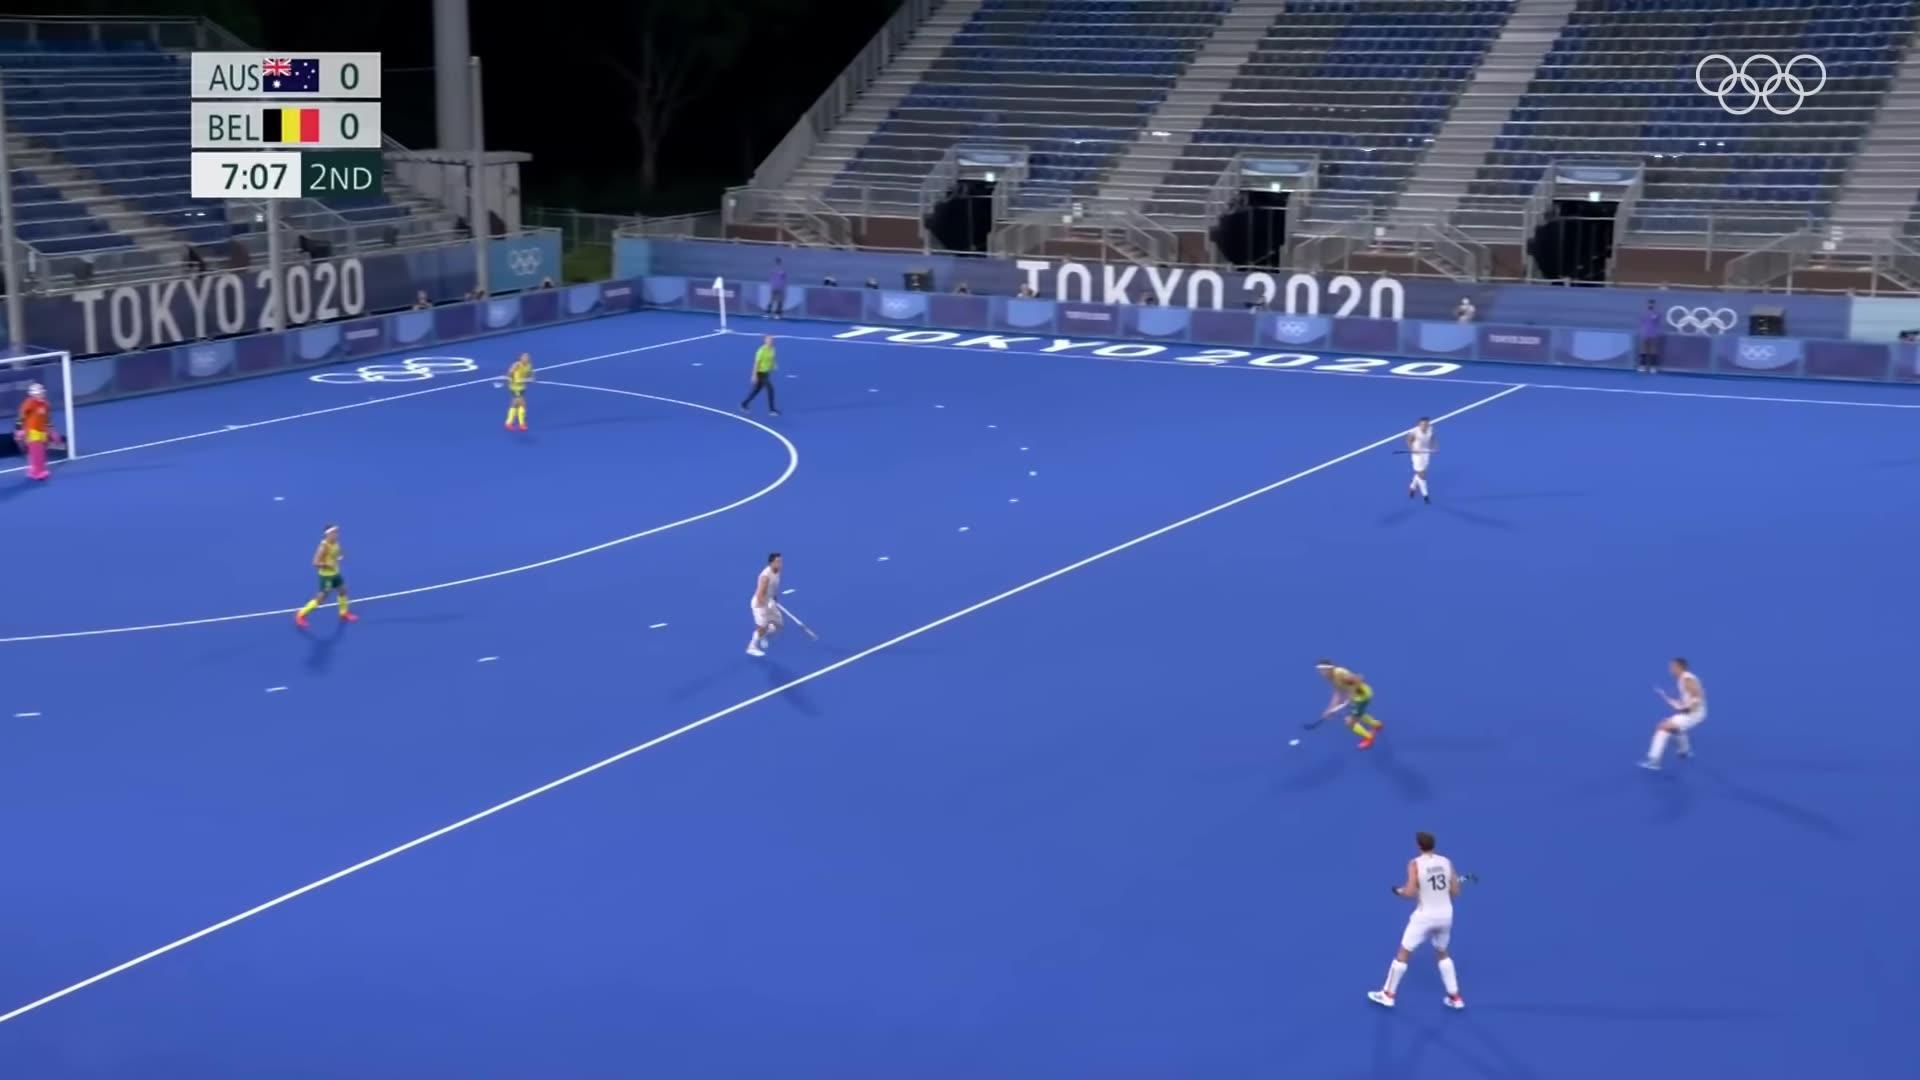ball: (1281, 733, 1312, 753)
